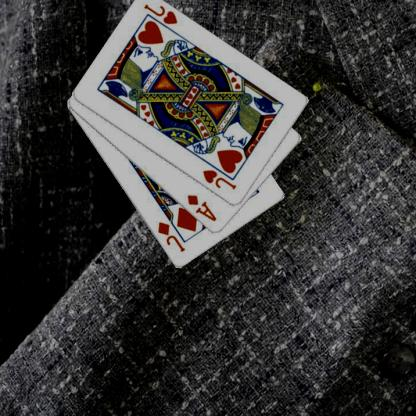AD: (186, 192, 220, 223)
JD: (157, 220, 188, 254)
JH: (201, 167, 239, 191), (143, 2, 181, 26)
